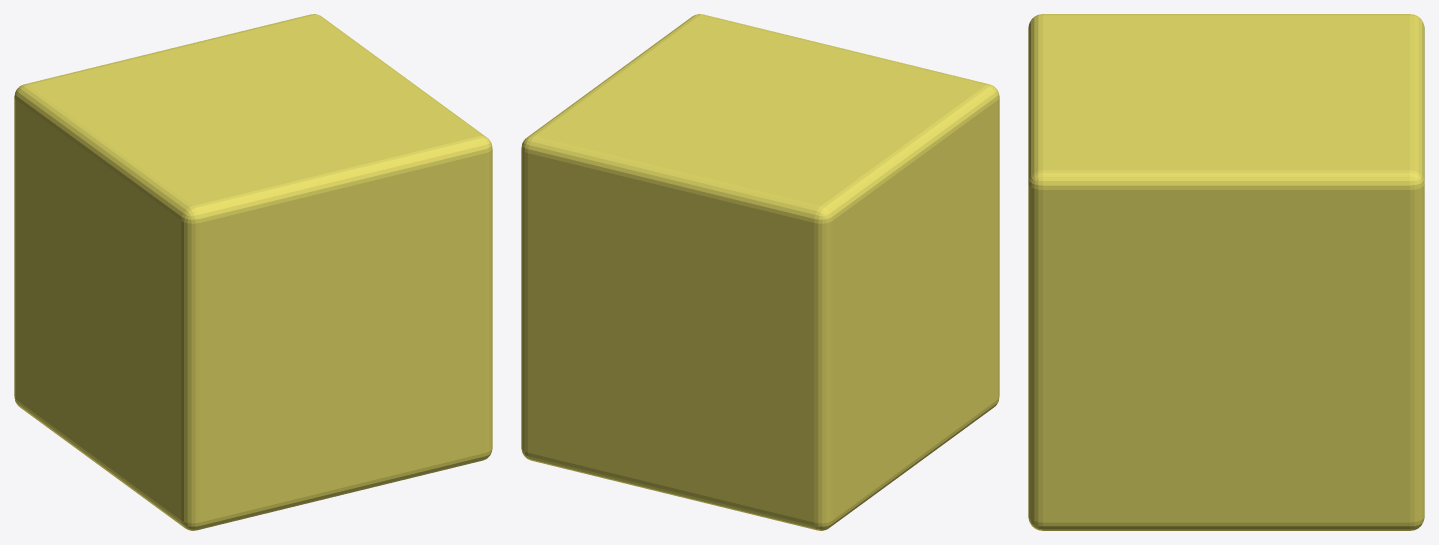
Rendered from Wall_small.glb.
3 views of the same model, side by side, from view 1: azimuth 30°, elevation 25°; view 2: azimuth 150°, elevation 25°; view 3: azimuth 270°, elevation 25° (orthographic). The views are drawn at different scales.
Parts seen in each view (by area): view 1: Wall_Small; view 2: Wall_Small; view 3: Wall_Small.
Part boxes in pixels (x1,y1,x2,y2): Wall_Small: [14, 14, 492, 530]; Wall_Small: [521, 14, 999, 530]; Wall_Small: [1028, 14, 1424, 530].
Bounding box in the file's own units: 2 × 2 × 2.
